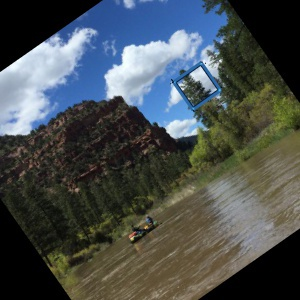square: (169, 59, 222, 111)
